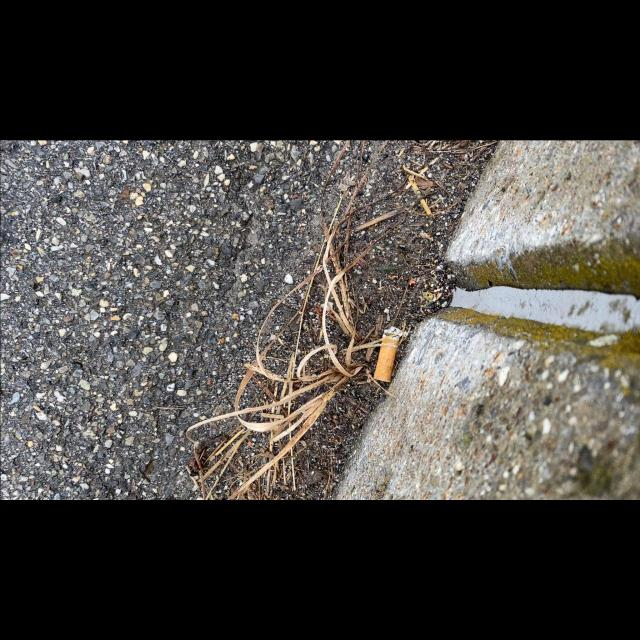cigarette: (373, 326, 404, 382)
